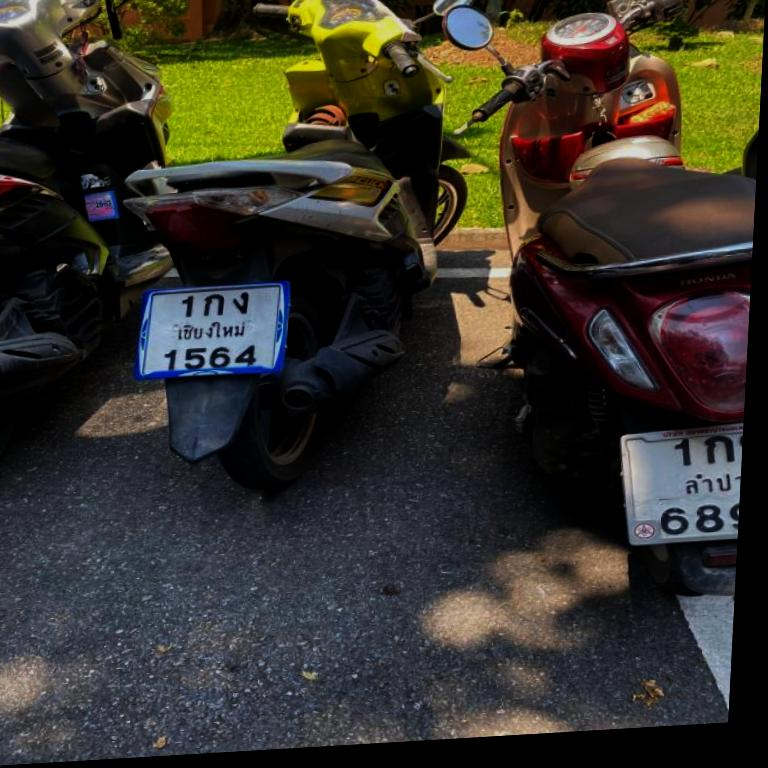license plate: (622, 423, 743, 543), (140, 281, 289, 377)
